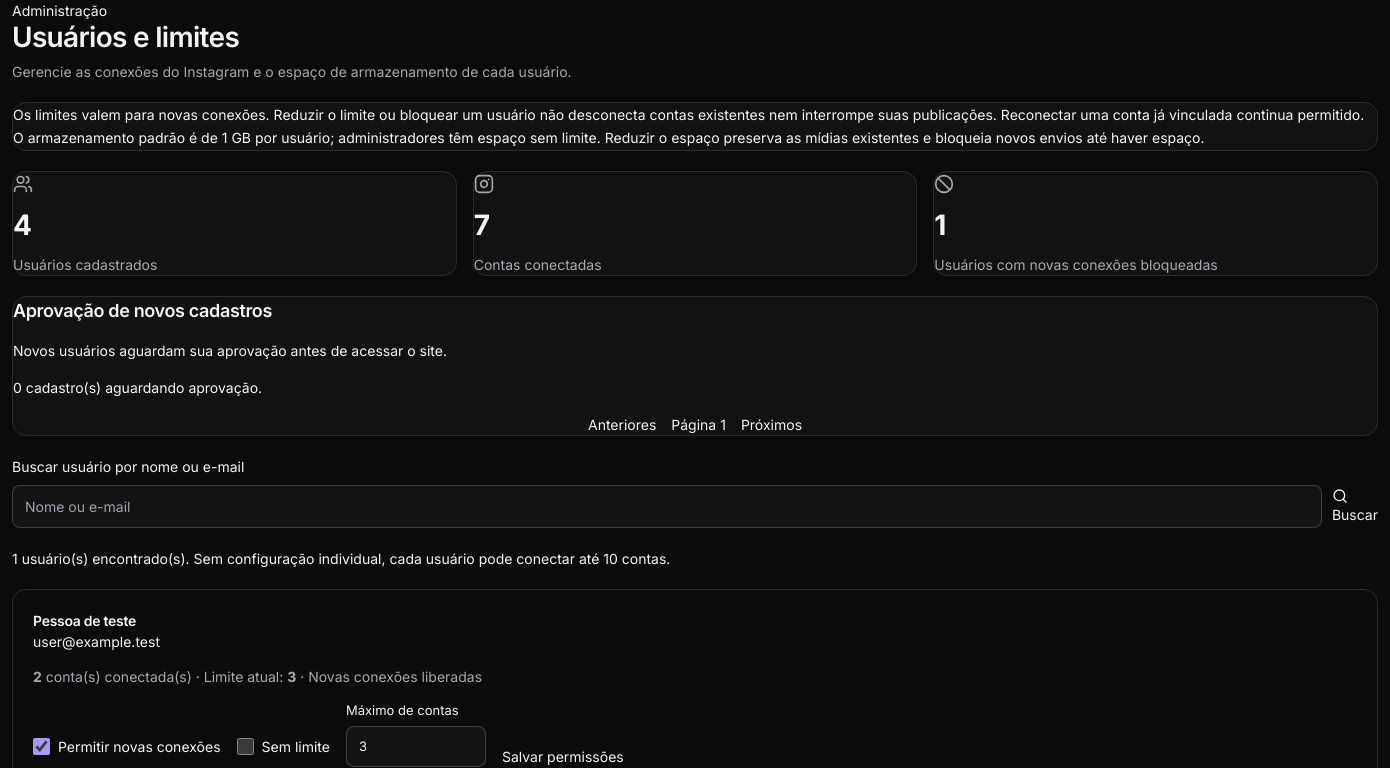
Test: administrative permissions panel › shows current usage and saves the selected user's limit and connection permission
The image size is (1390, 768).
Expected: the text "Contas conectadas" is shown, [474, 256, 602, 273]
Replace the text in the number field labelled "Máximo de contas" with "5". click: (416, 746)
box: [346, 726, 486, 767]
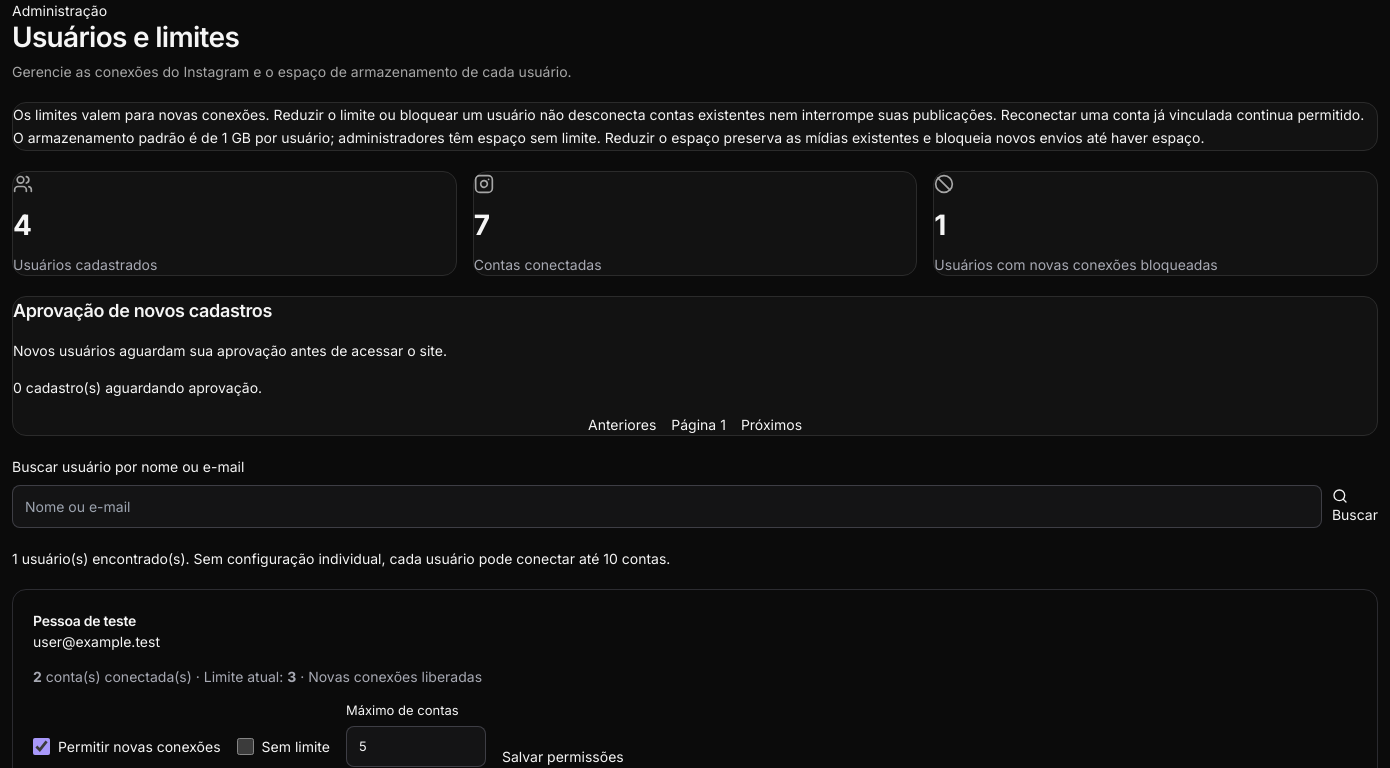
Click the checkbox labelled "Permitir novas conexões". click: (42, 746)
box: [33, 738, 50, 755]
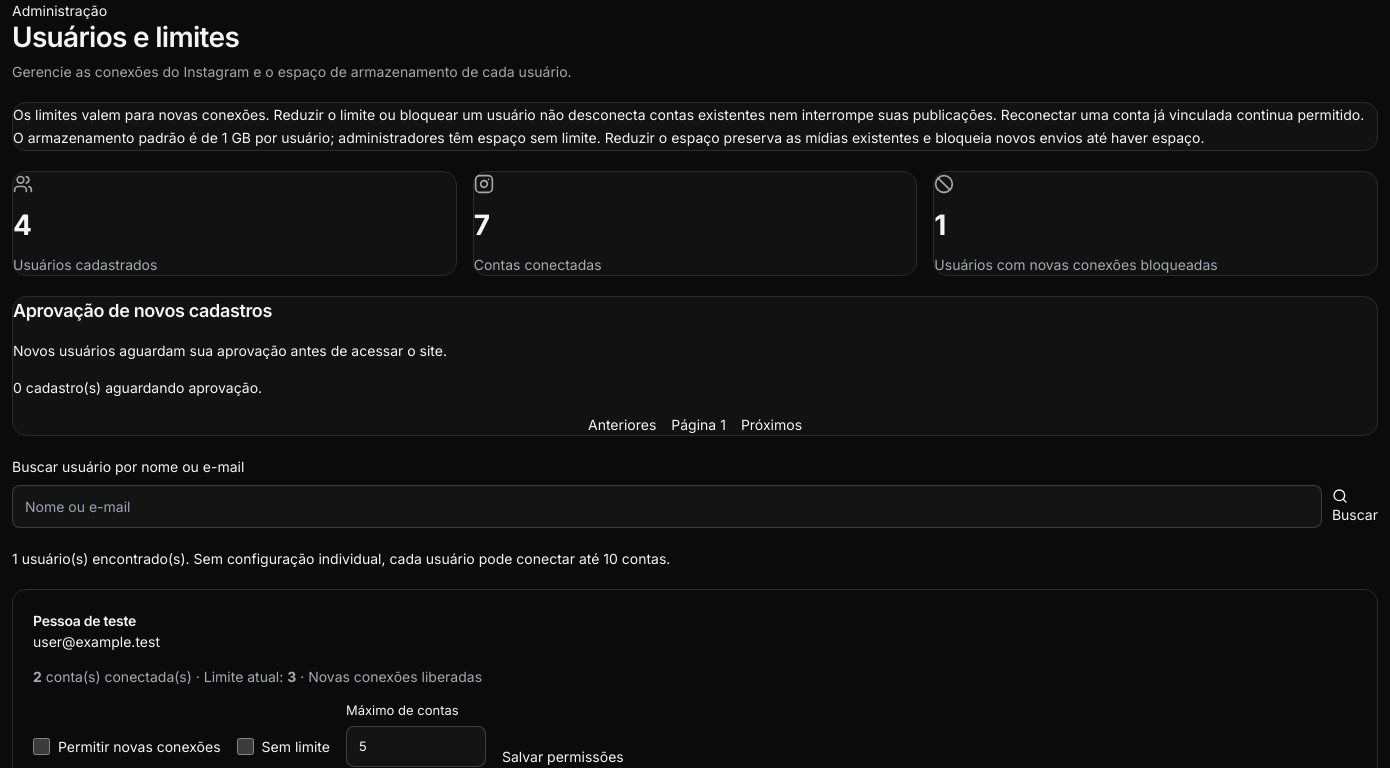
Click the button "Salvar permissões". click: (563, 757)
box: [502, 746, 624, 767]
(page scrolled)
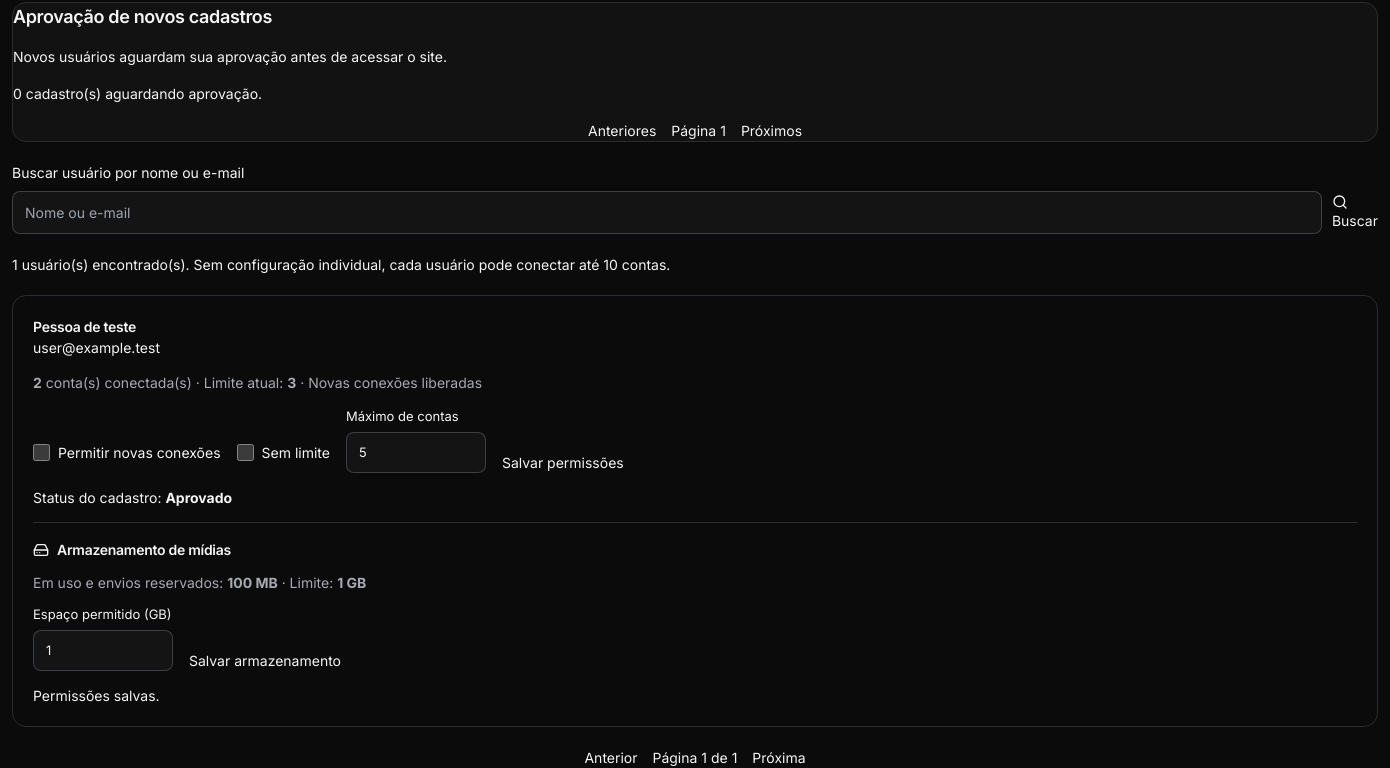
Expected: the text "Permissões salvas." is shown, [33, 687, 160, 704]
